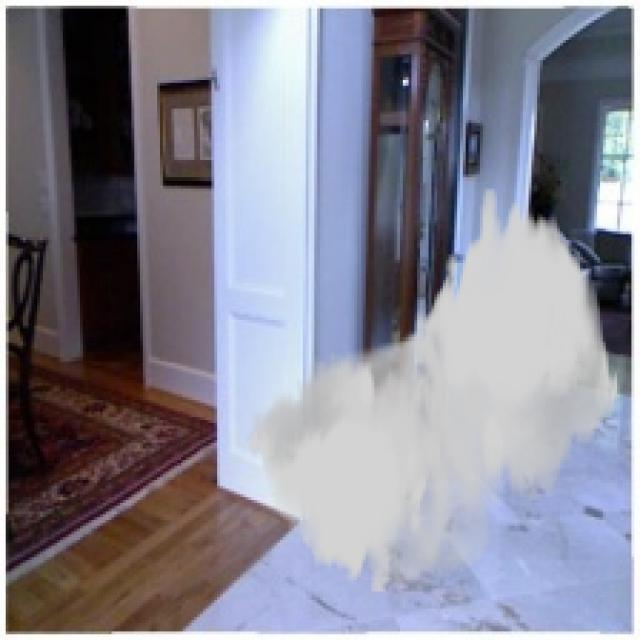Smoke: (245, 188, 620, 594)
